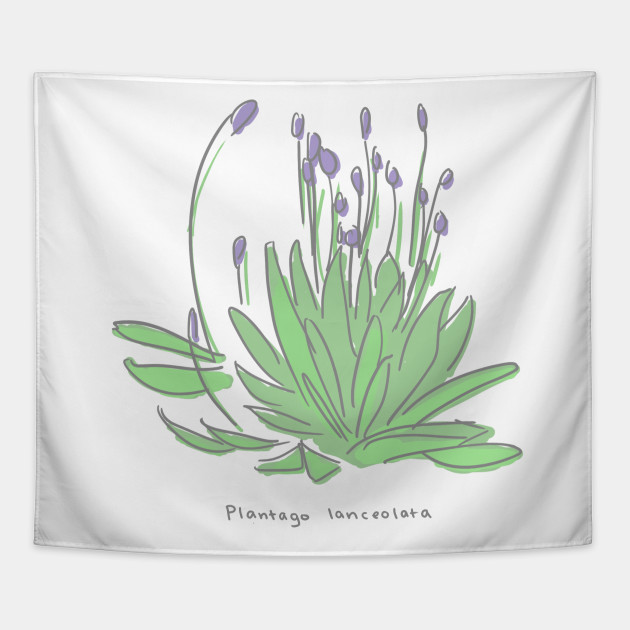buckhorn plantain: (111, 82, 498, 432)
